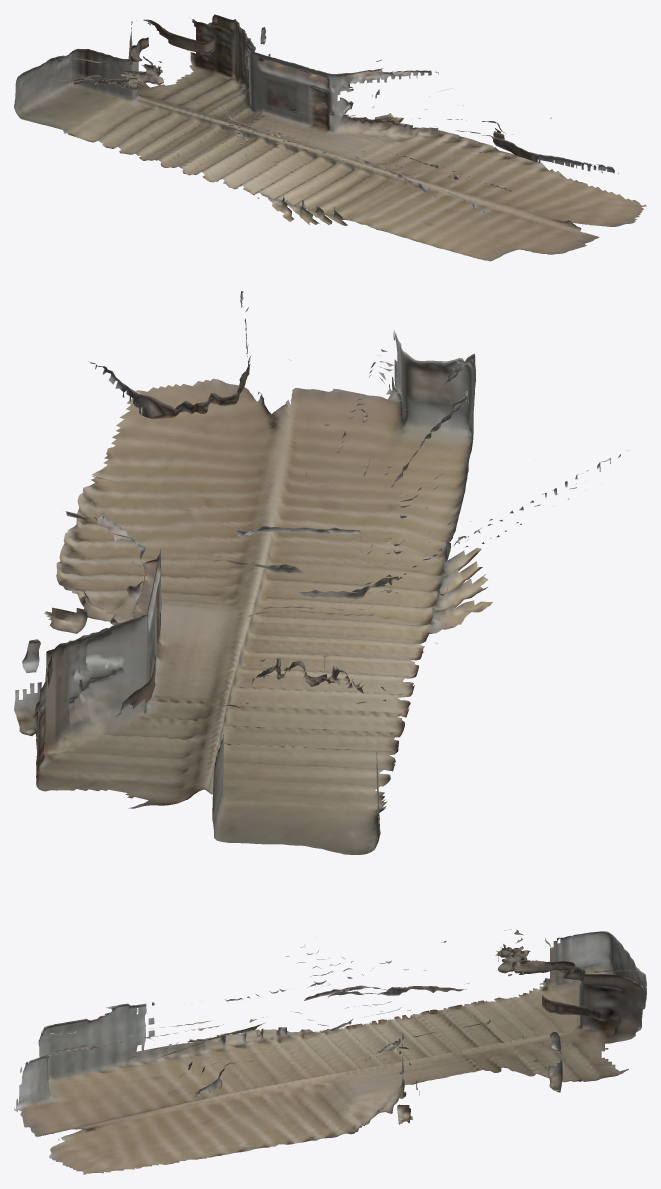
File: scene_collider.glb
The picture shows the model from 3 angles, top to bottom: view 1: azimuth 30°, elevation 25°; view 2: azimuth 150°, elevation 25°; view 3: azimuth 270°, elevation 25°; orthographic projection. The views are drawn at different scales.
Parts seen in each view (by area): view 1: world; view 2: world; view 3: world.
Part boxes in pixels (bbox=[...]): world: bbox=[14, 14, 646, 261]; world: bbox=[14, 291, 628, 854]; world: bbox=[14, 929, 646, 1174].
Size of the model in its own units: 8.95 by 2.22 by 11.96.
